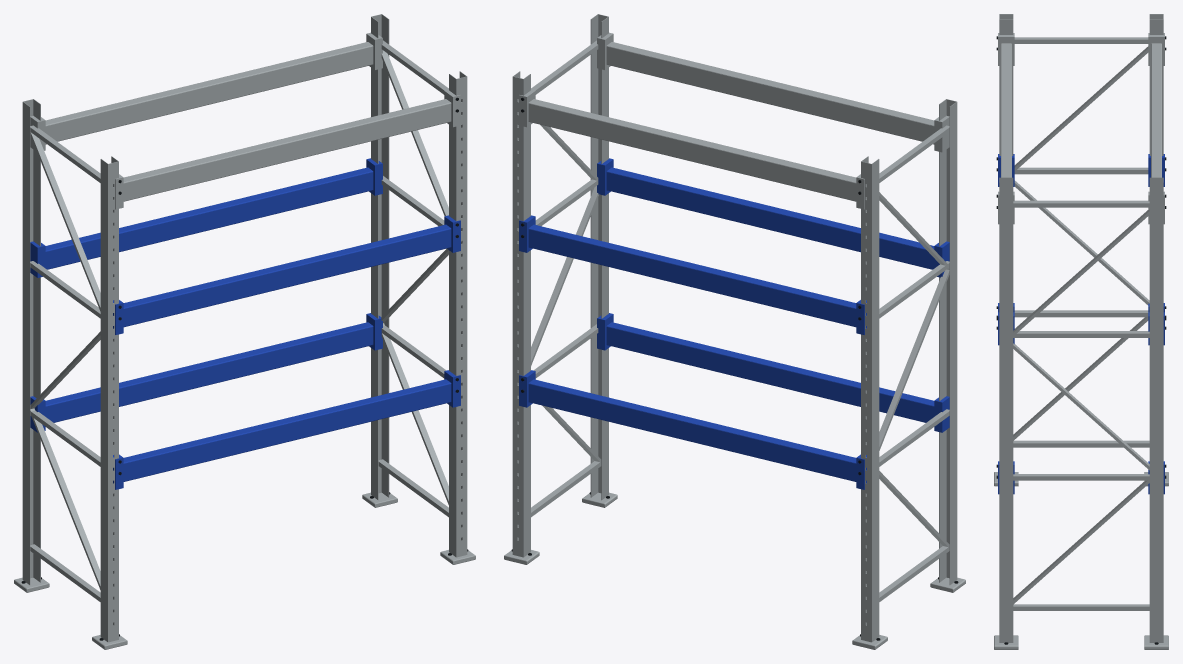
Rendered from beam-rack.glb.
3 renders of one model, left to right at view 1: azimuth 30°, elevation 25°; view 2: azimuth 150°, elevation 25°; view 3: azimuth 270°, elevation 25°, orthographic. The views are drawn at different scales.
Parts seen in each view (by area): view 1: mesh__beam-rack__galvanized_steel, mesh__beam-rack__rack_blue; view 2: mesh__beam-rack__galvanized_steel, mesh__beam-rack__rack_blue; view 3: mesh__beam-rack__galvanized_steel, mesh__beam-rack__rack_blue.
Part boxes in pixels (<box>): mesh__beam-rack__galvanized_steel: <box>14,14,475,649</box>; mesh__beam-rack__rack_blue: <box>30,158,460,489</box>; mesh__beam-rack__galvanized_steel: <box>504,14,965,649</box>; mesh__beam-rack__rack_blue: <box>519,158,949,489</box>; mesh__beam-rack__galvanized_steel: <box>994,14,1168,649</box>; mesh__beam-rack__rack_blue: <box>998,154,1164,494</box>.
Bounding box in the file's own units: 3.02 × 3.74 × 1.28.
